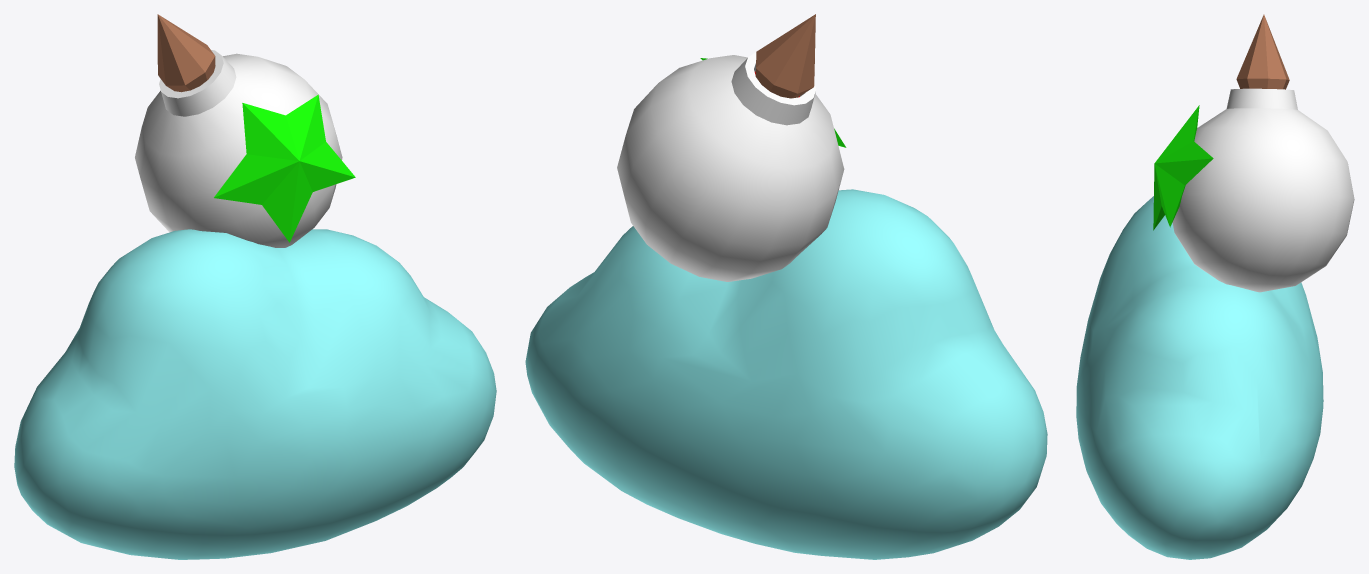
Rendered from Item_Healing High1.FBX.
3 views of the same model, side by side, from view 1: azimuth 30°, elevation 25°; view 2: azimuth 150°, elevation 25°; view 3: azimuth 270°, elevation 25° (orthographic). The views are drawn at different scales.
Visible parts, largest first — view 1: Item_Healing; view 2: Item_Healing; view 3: Item_Healing.
Part boxes in pixels (x1,y1,x2,y2): Item_Healing: (14, 14, 496, 559); Item_Healing: (525, 14, 1047, 559); Item_Healing: (1076, 14, 1354, 559).
Bounding box in the file's own units: 114 × 123 × 65.42.
